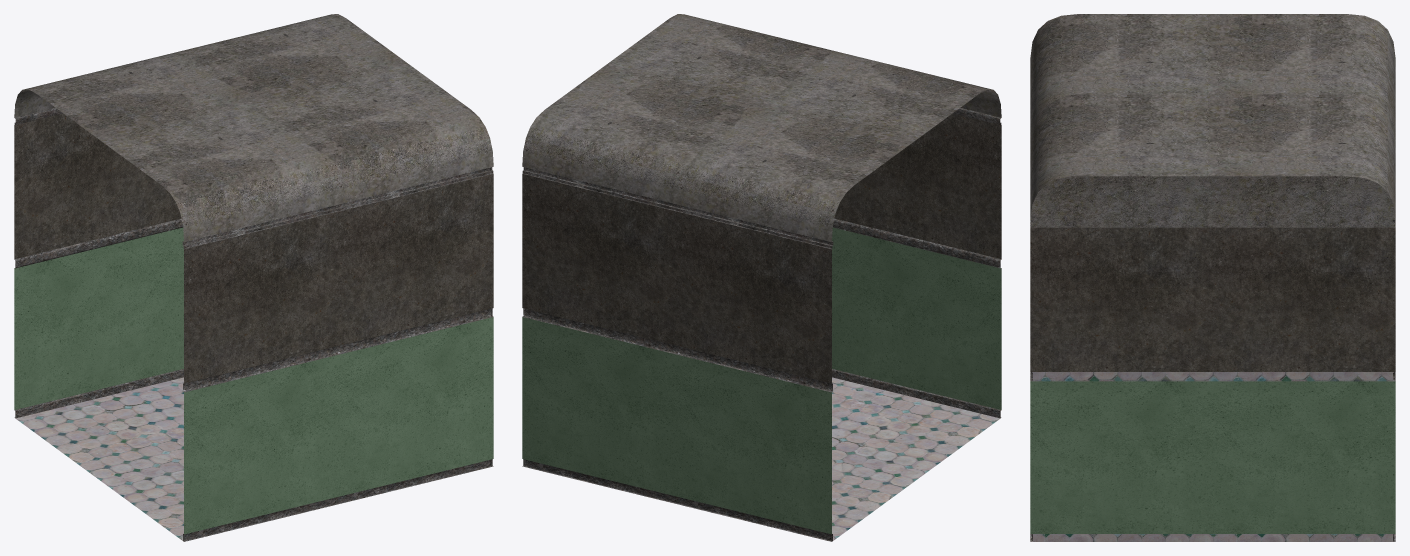
Rendered from CorridorBlockDeadEnd.FBX.
3 views of the same model, side by side, from view 1: azimuth 30°, elevation 25°; view 2: azimuth 150°, elevation 25°; view 3: azimuth 270°, elevation 25° (orthographic). The views are drawn at different scales.
Visible parts, largest first — view 1: DeadEnd; view 2: DeadEnd; view 3: DeadEnd.
Boxes of the visible parts, x1=… form: DeadEnd: x1=14, y1=14, x2=493, y2=541; DeadEnd: x1=522, y1=14, x2=1001, y2=541; DeadEnd: x1=1030, y1=14, x2=1395, y2=541.
Bounding box in the file's own units: 78.78 × 82.67 × 74.8.
